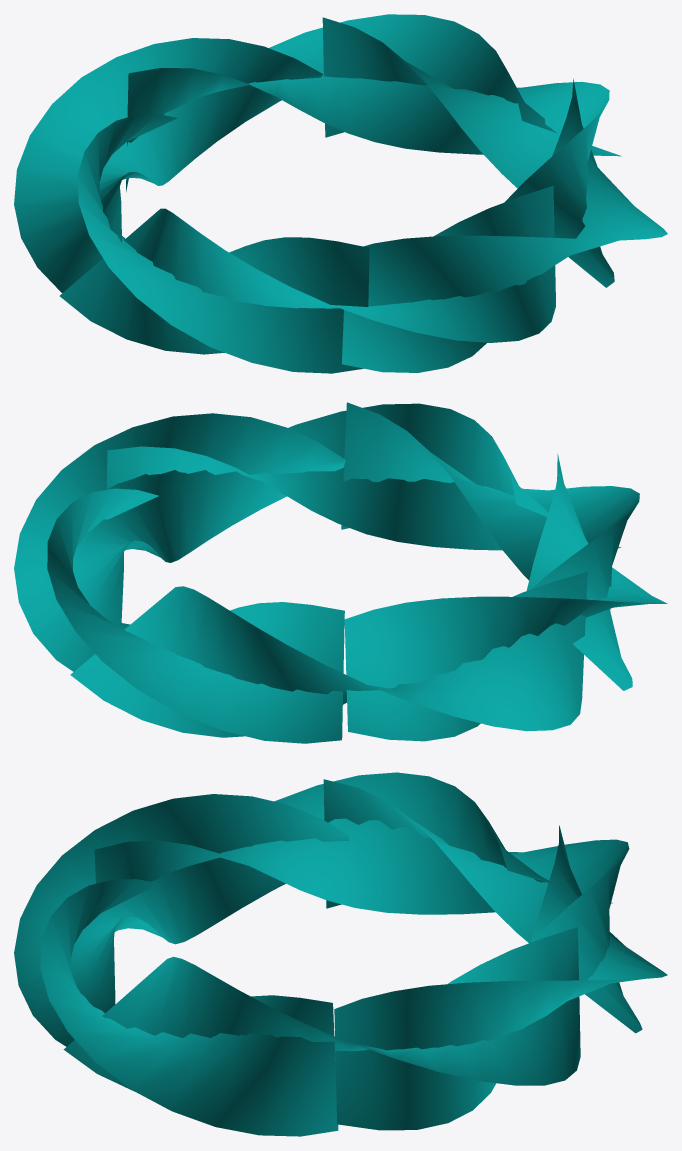
The picture shows the model from 3 angles, top to bottom: view 1: azimuth 30°, elevation 25°; view 2: azimuth 150°, elevation 25°; view 3: azimuth 270°, elevation 25°; orthographic projection. The views are drawn at different scales.
Parts seen in each view (by area): view 1: G:\FFXIV-MapTools\exports\x6f2\bg\ex5\01_xkt_x6\fld\x6f3\bgp; view 2: G:\FFXIV-MapTools\exports\x6f2\bg\ex5\01_xkt_x6\fld\x6f3\bgp; view 3: G:\FFXIV-MapTools\exports\x6f2\bg\ex5\01_xkt_x6\fld\x6f3\bgp.
Part boxes in pixels (box(x1,y1,x2,y2)): G:\FFXIV-MapTools\exports\x6f2\bg\ex5\01_xkt_x6\fld\x6f3\bgp: box(14, 14, 667, 373); G:\FFXIV-MapTools\exports\x6f2\bg\ex5\01_xkt_x6\fld\x6f3\bgp: box(14, 402, 667, 743); G:\FFXIV-MapTools\exports\x6f2\bg\ex5\01_xkt_x6\fld\x6f3\bgp: box(14, 772, 667, 1136).
Size of the model in its own units: 23.95 by 5.73 by 23.41.
